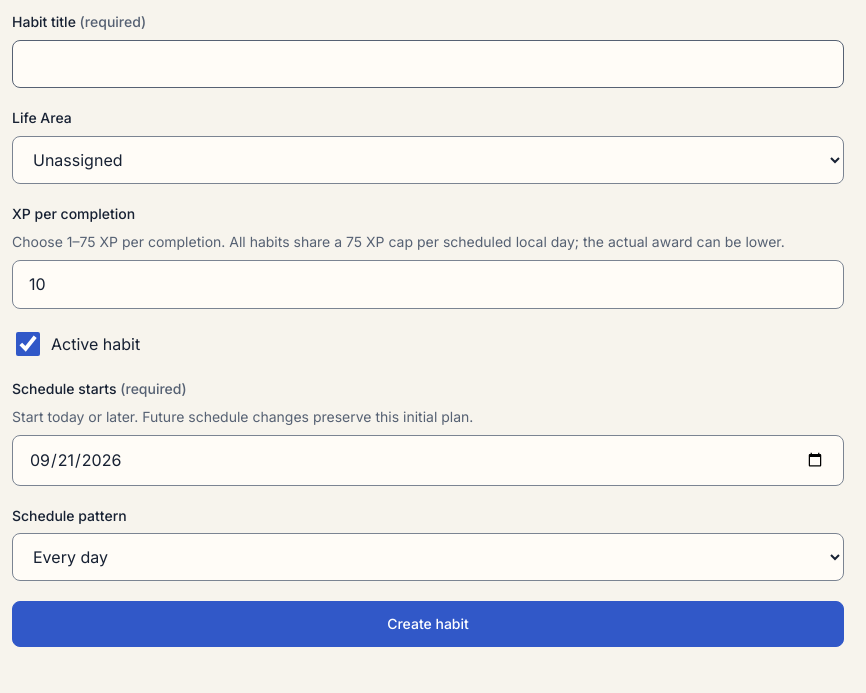
Test: habit creation validates -1 XP against the displayed range
Type "A daily practice" into the field labelled "Habit title".
click(428, 64); type("A daily practice")  # box x1=12 y1=40 x2=844 y2=88
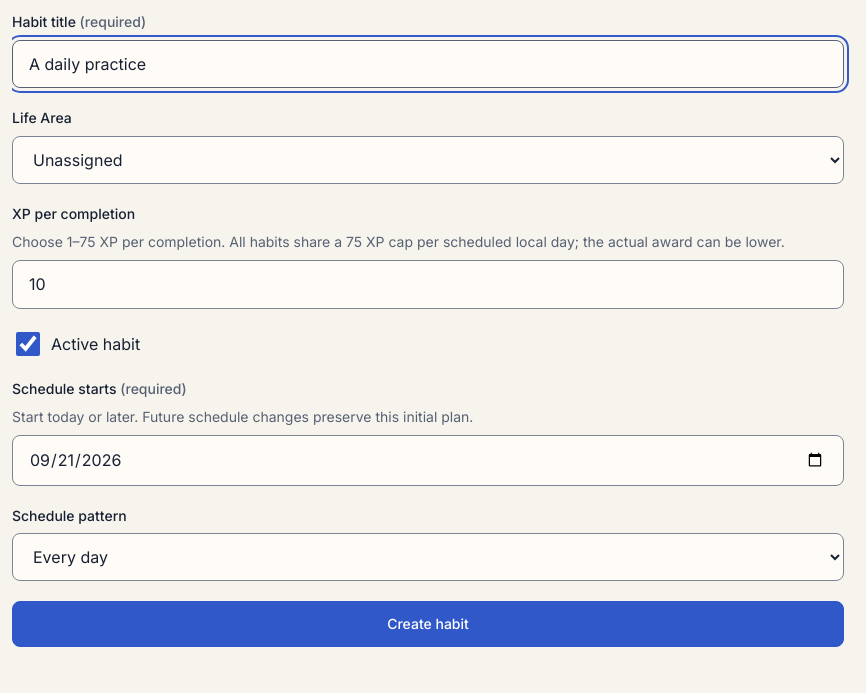
Replace the text in the number field labelled "XP per completion" with "-1" at (428, 284), box x1=12 y1=260 x2=844 y2=309
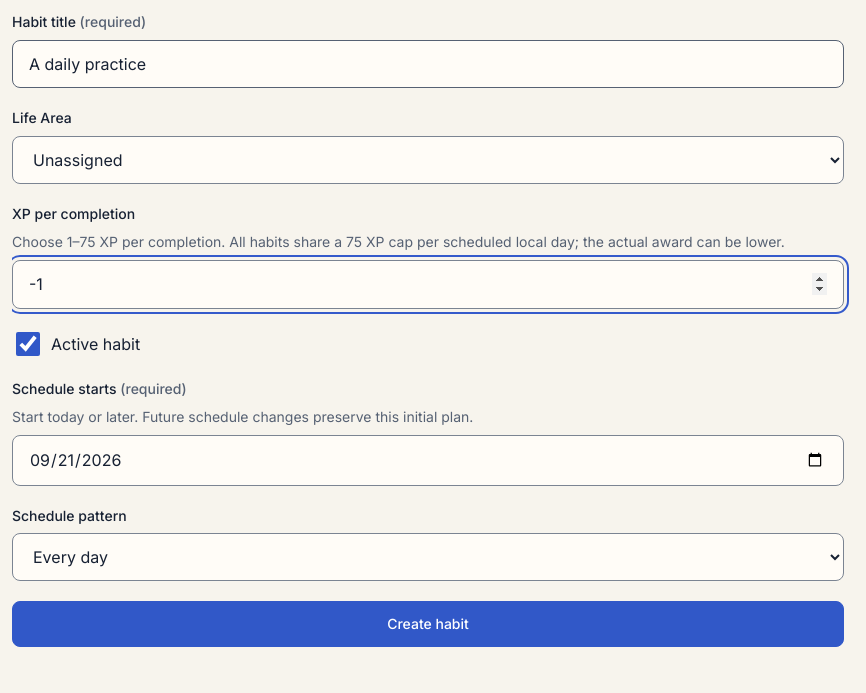
Click the button "Create habit".
click(428, 624)  # box x1=12 y1=601 x2=844 y2=647
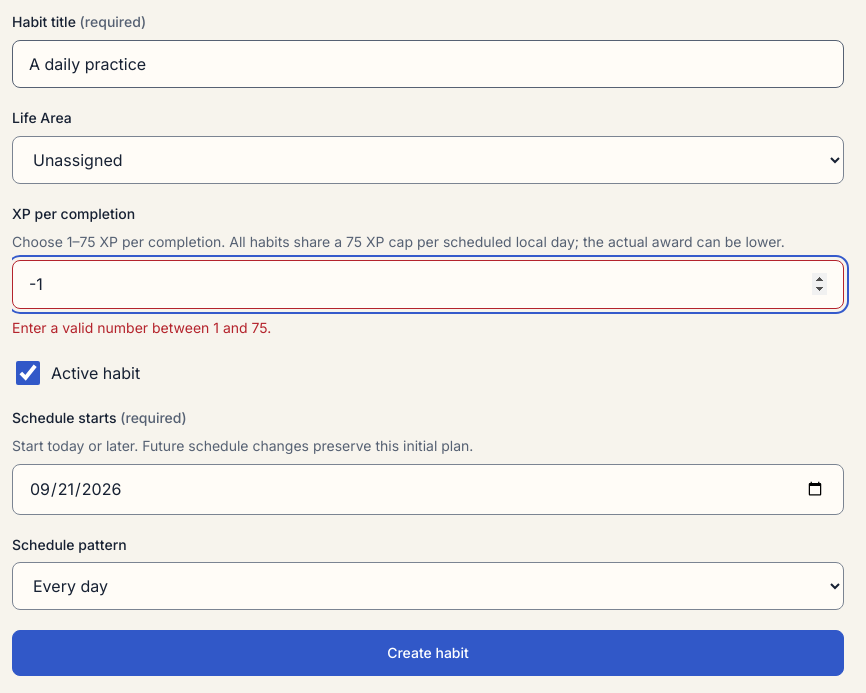
Result: the text "Enter a valid number between 1 and 75." is shown at x1=12 y1=319 x2=271 y2=336
